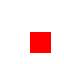square: (30, 32, 50, 52)
